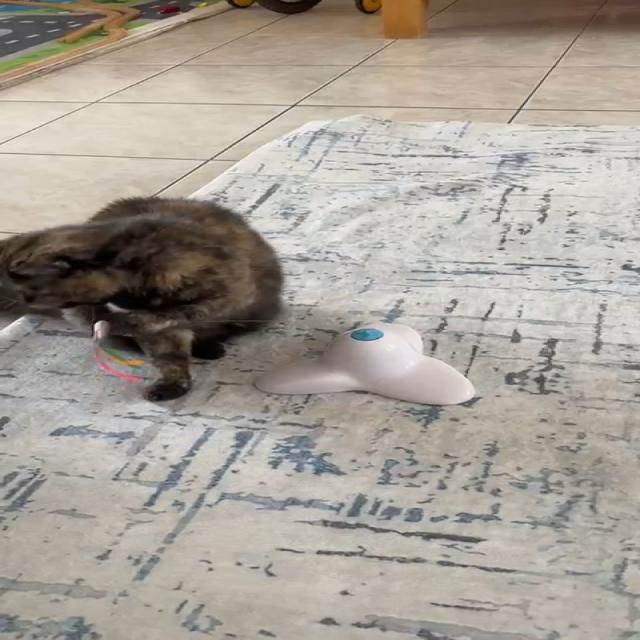authorized: (0, 193, 285, 401)
